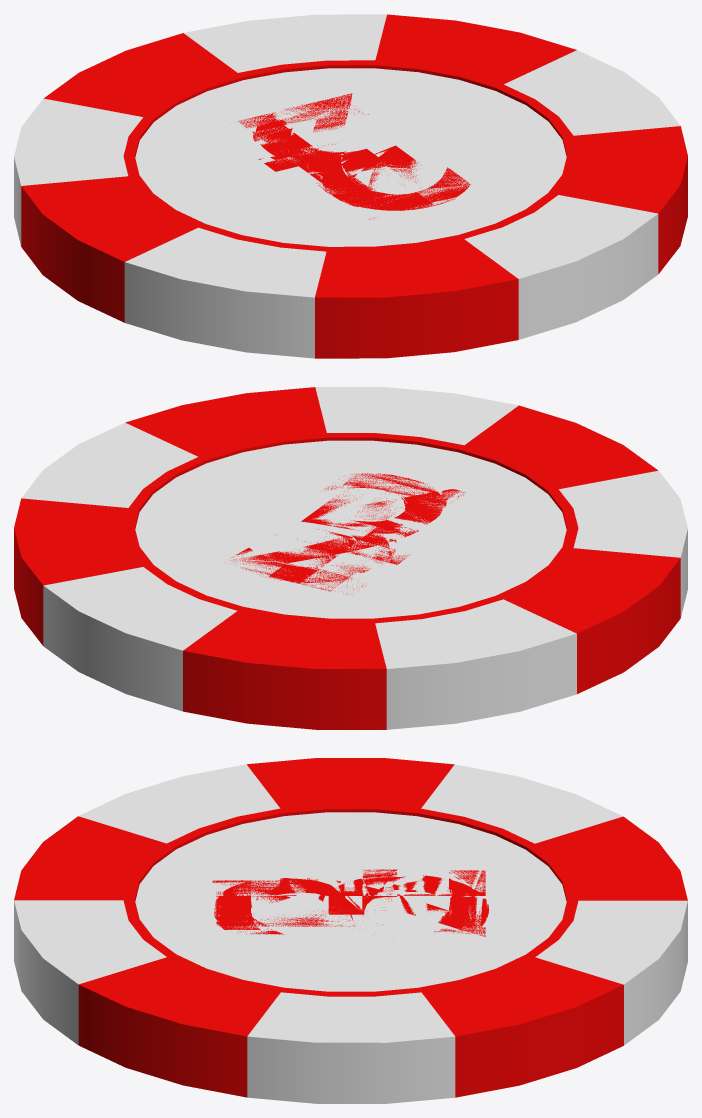
Rendered from token.glb.
The picture shows the model from 3 angles, top to bottom: view 1: azimuth 30°, elevation 25°; view 2: azimuth 150°, elevation 25°; view 3: azimuth 270°, elevation 25°; orthographic projection.
Visible parts, largest first — view 1: 1-token, 2-token, 4-token, 3-token, 5-token, token-empty; view 2: 1-token, 2-token, 4-token, 5-token, 3-token, token-empty; view 3: 1-token, 2-token, 3-token, 5-token, 4-token.
Boxes of the visible parts, x1,y1,x2,y2 form: 1-token: (14,14,687,358); 2-token: (14,14,687,358); 4-token: (135,73,556,237); 3-token: (151,68,549,246); 5-token: (135,70,562,246); token-empty: (153,68,566,244); 1-token: (18,387,681,729); 2-token: (14,387,687,729); 4-token: (136,440,566,618); 5-token: (135,441,562,618); 3-token: (136,440,560,616); token-empty: (138,440,547,617); 1-token: (14,758,687,1103); 2-token: (16,758,687,1103); 3-token: (135,812,566,991); 5-token: (139,813,560,991); 4-token: (140,812,564,989).
Size of the model in its own units: 0.075 by 0.0075 by 0.075.
